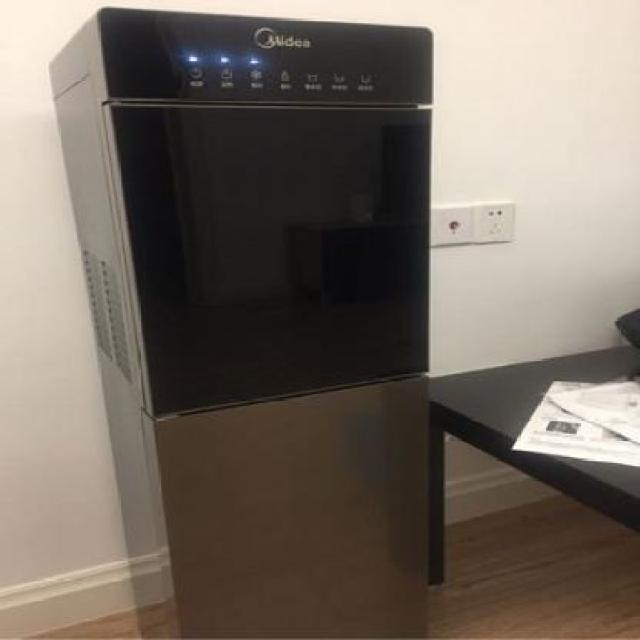cooler: (42, 3, 440, 640)
